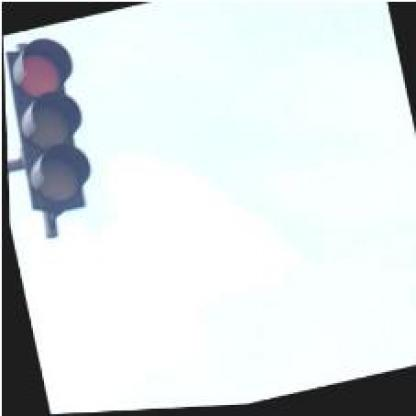red: (1, 32, 98, 217)
